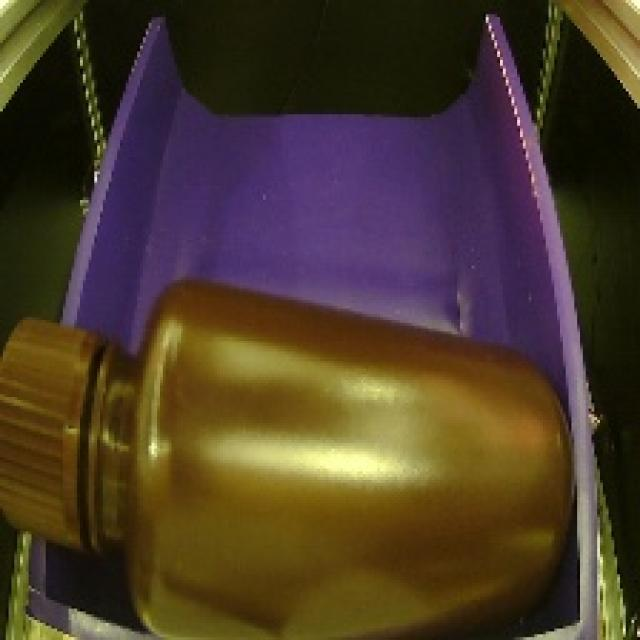plastic: (0, 248, 583, 640)
